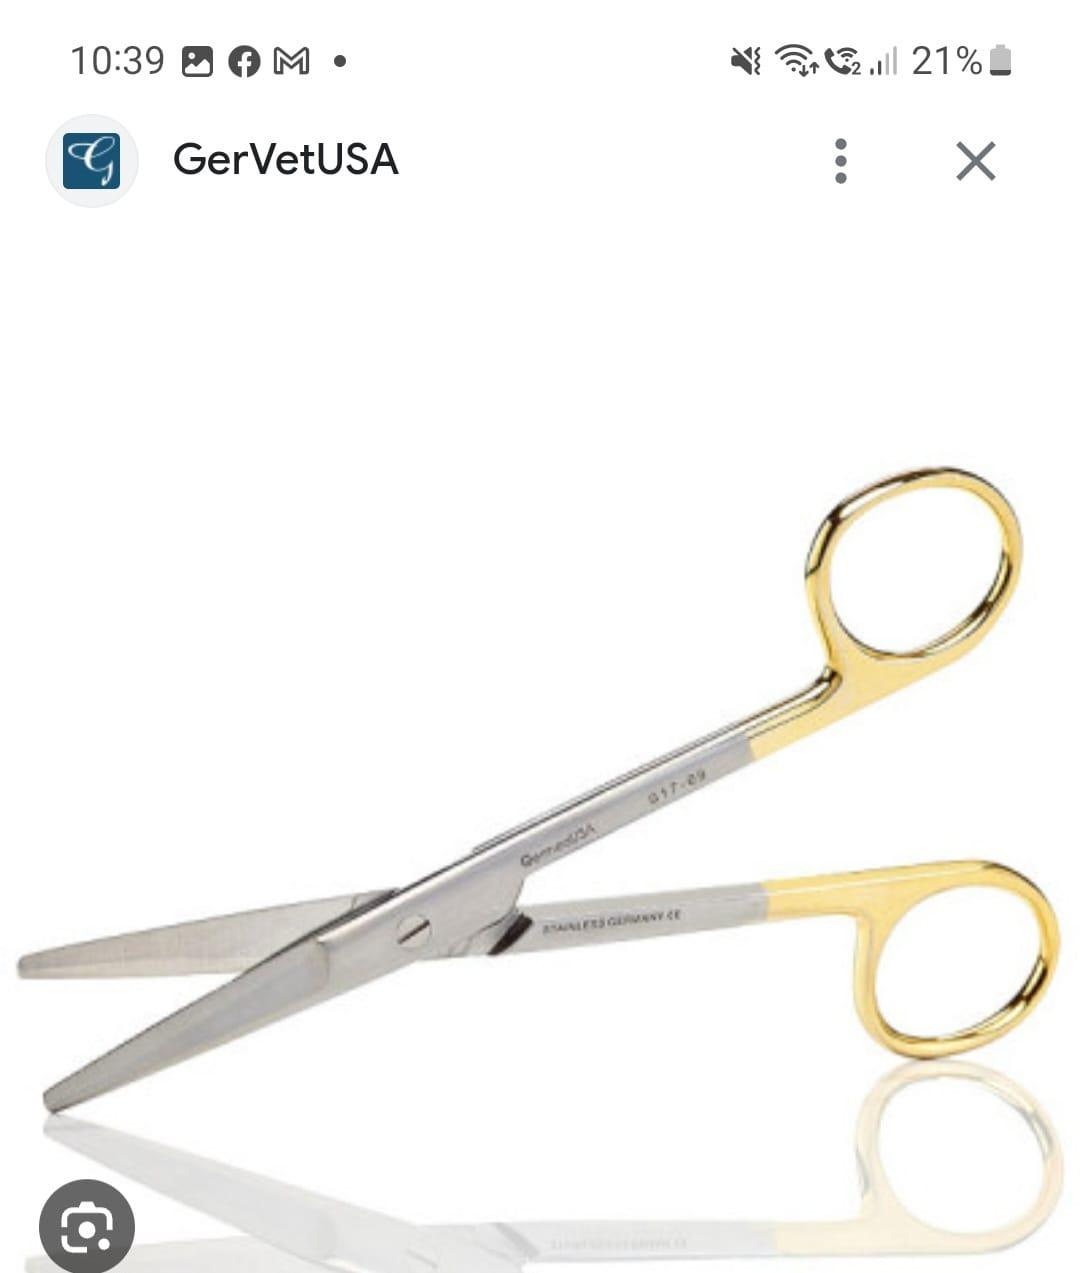Straight Mayo: (10, 444, 1080, 1124)
